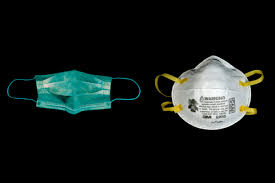FaceMask: (35, 70, 111, 114)
